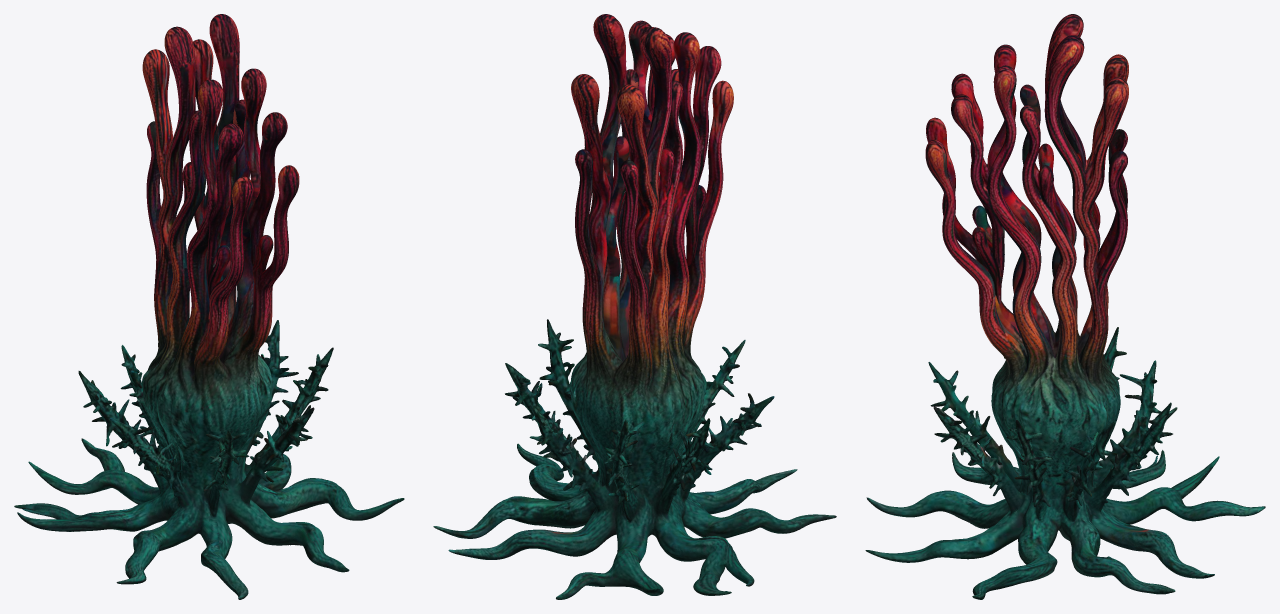
Rendered from Whipers.glb.
The picture shows the model from 3 angles, left to right: view 1: azimuth 30°, elevation 25°; view 2: azimuth 150°, elevation 25°; view 3: azimuth 270°, elevation 25°; orthographic projection. The views are drawn at different scales.
Visible parts, largest first — view 1: tripo_node_e4b4170c-9127-4f3d-8179-b93d329a34d4; view 2: tripo_node_e4b4170c-9127-4f3d-8179-b93d329a34d4; view 3: tripo_node_e4b4170c-9127-4f3d-8179-b93d329a34d4.
Part boxes in pixels (bbox=[...]): tripo_node_e4b4170c-9127-4f3d-8179-b93d329a34d4: bbox=[14, 14, 404, 599]; tripo_node_e4b4170c-9127-4f3d-8179-b93d329a34d4: bbox=[433, 14, 836, 599]; tripo_node_e4b4170c-9127-4f3d-8179-b93d329a34d4: bbox=[865, 14, 1265, 599].
Size of the model in its own units: 0.6373 by 1 by 0.7065.
1 material, 1 textured.
